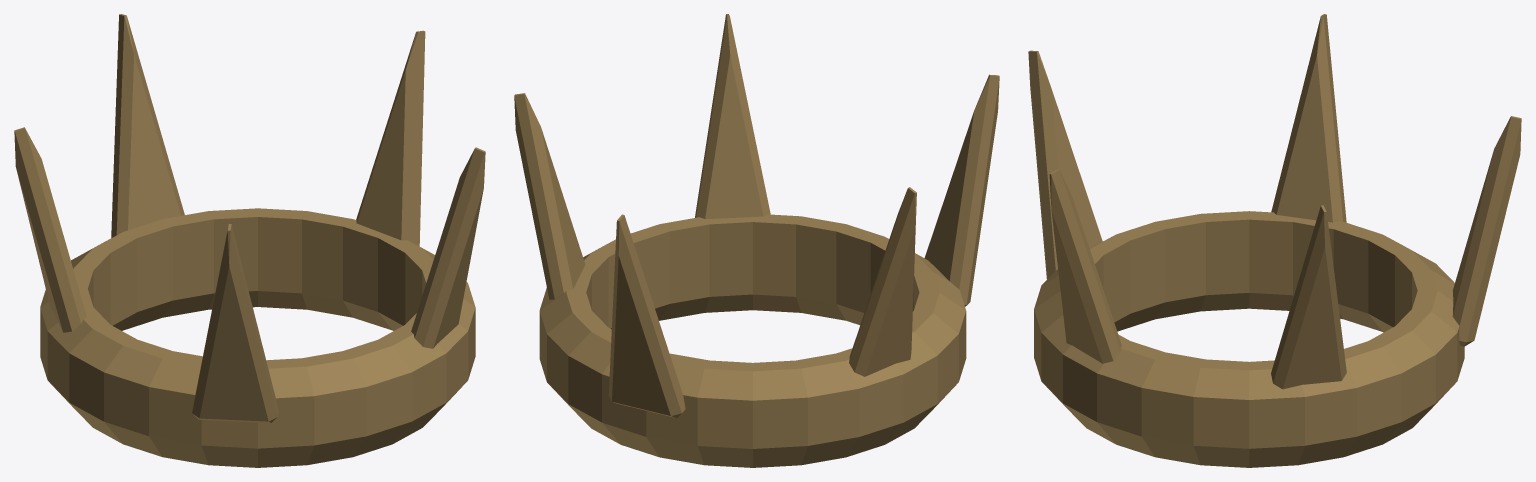
The model's file is PROP_coronet.glb.
3 renders of one model, left to right at view 1: azimuth 30°, elevation 25°; view 2: azimuth 150°, elevation 25°; view 3: azimuth 270°, elevation 25°, orthographic. The views are drawn at different scales.
Visible parts, largest first — view 1: PROP_coronet__brass__coronet; view 2: PROP_coronet__brass__coronet; view 3: PROP_coronet__brass__coronet.
Part boxes in pixels (box(x1,y1,x2,y2)): PROP_coronet__brass__coronet: box(14, 14, 485, 467); PROP_coronet__brass__coronet: box(514, 14, 999, 467); PROP_coronet__brass__coronet: box(1028, 14, 1521, 467).
Bounding box in the file's own units: 0.3483 × 0.2276 × 0.3664.
